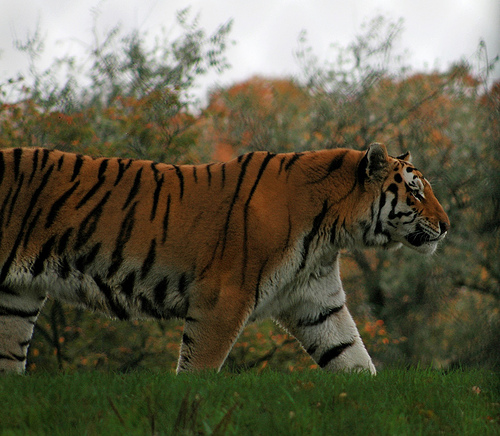Tigre: (5, 132, 455, 395)
